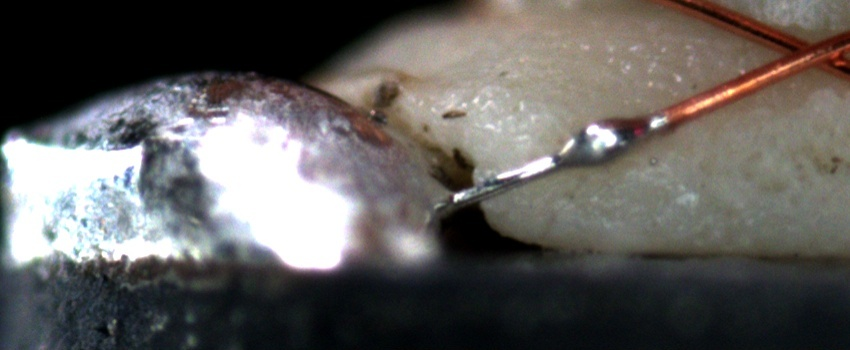CL: (760, 22, 846, 80)
TB: (563, 111, 645, 168)
TS: (447, 111, 667, 210)
TTCW: (441, 86, 718, 212)
